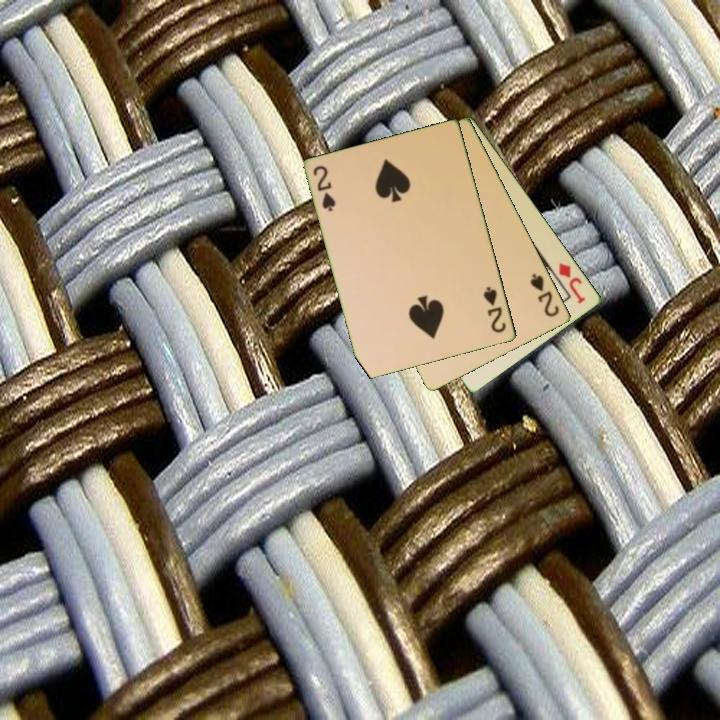2s: (527, 270, 563, 320), (480, 283, 509, 336), (310, 162, 339, 215)
Jd: (555, 259, 589, 307)
